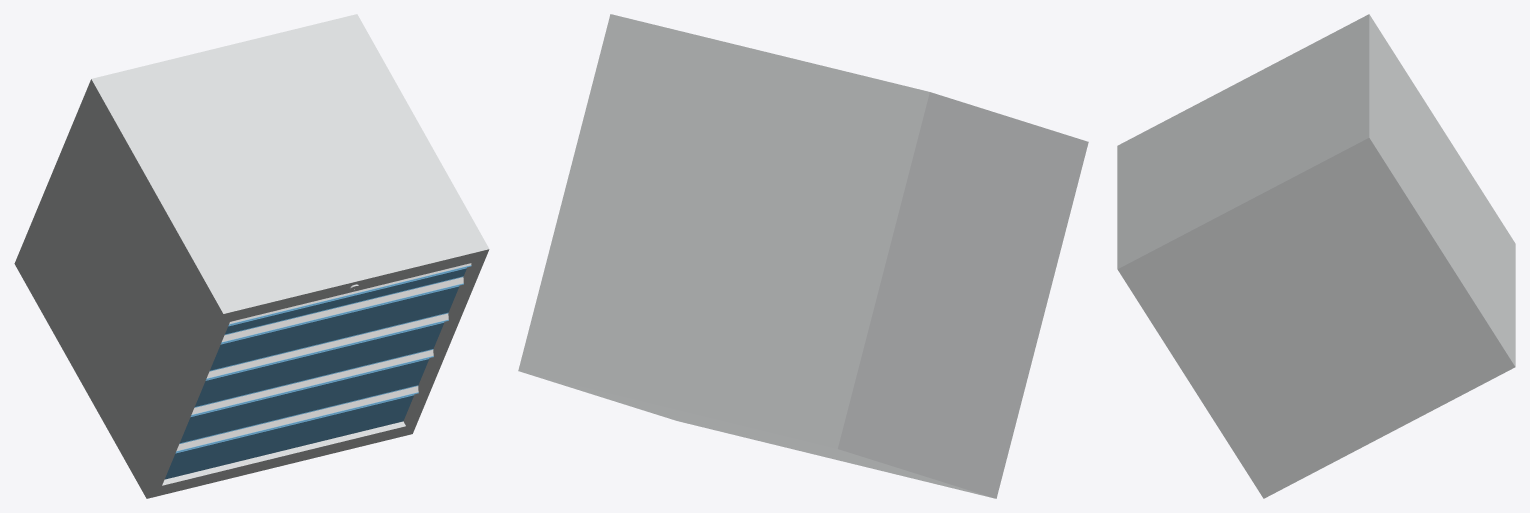
Rendered from 1m-30DEG.gltf.
The picture shows the model from 3 angles, left to right: view 1: azimuth 30°, elevation 25°; view 2: azimuth 150°, elevation 25°; view 3: azimuth 270°, elevation 25°; orthographic projection. The views are drawn at different scales.
Parts seen in each view (by area): view 1: mesh_1; view 2: mesh_1; view 3: mesh_1.
Boxes of the visible parts, x1=… form: mesh_1: x1=14, y1=14, x2=489, y2=498; mesh_1: x1=518, y1=14, x2=1088, y2=498; mesh_1: x1=1117, y1=14, x2=1515, y2=498.
Size of the model in its own units: 100 by 136 by 136.
